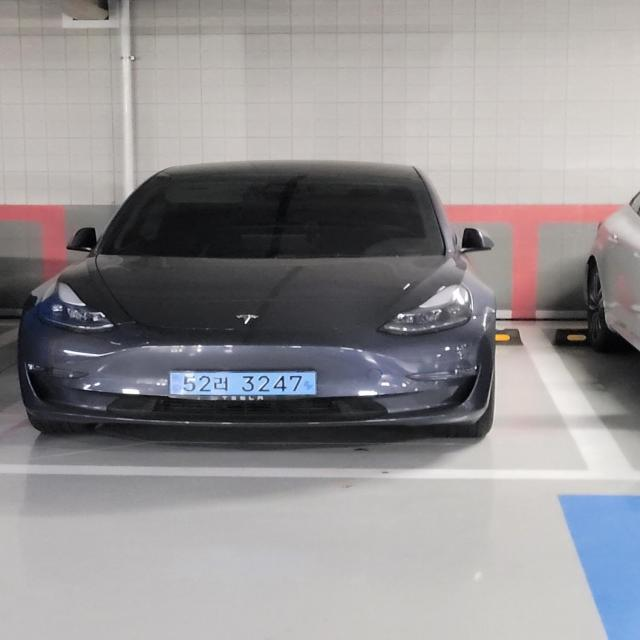EV_plate: (165, 365, 323, 408)
car: (19, 157, 500, 444)
